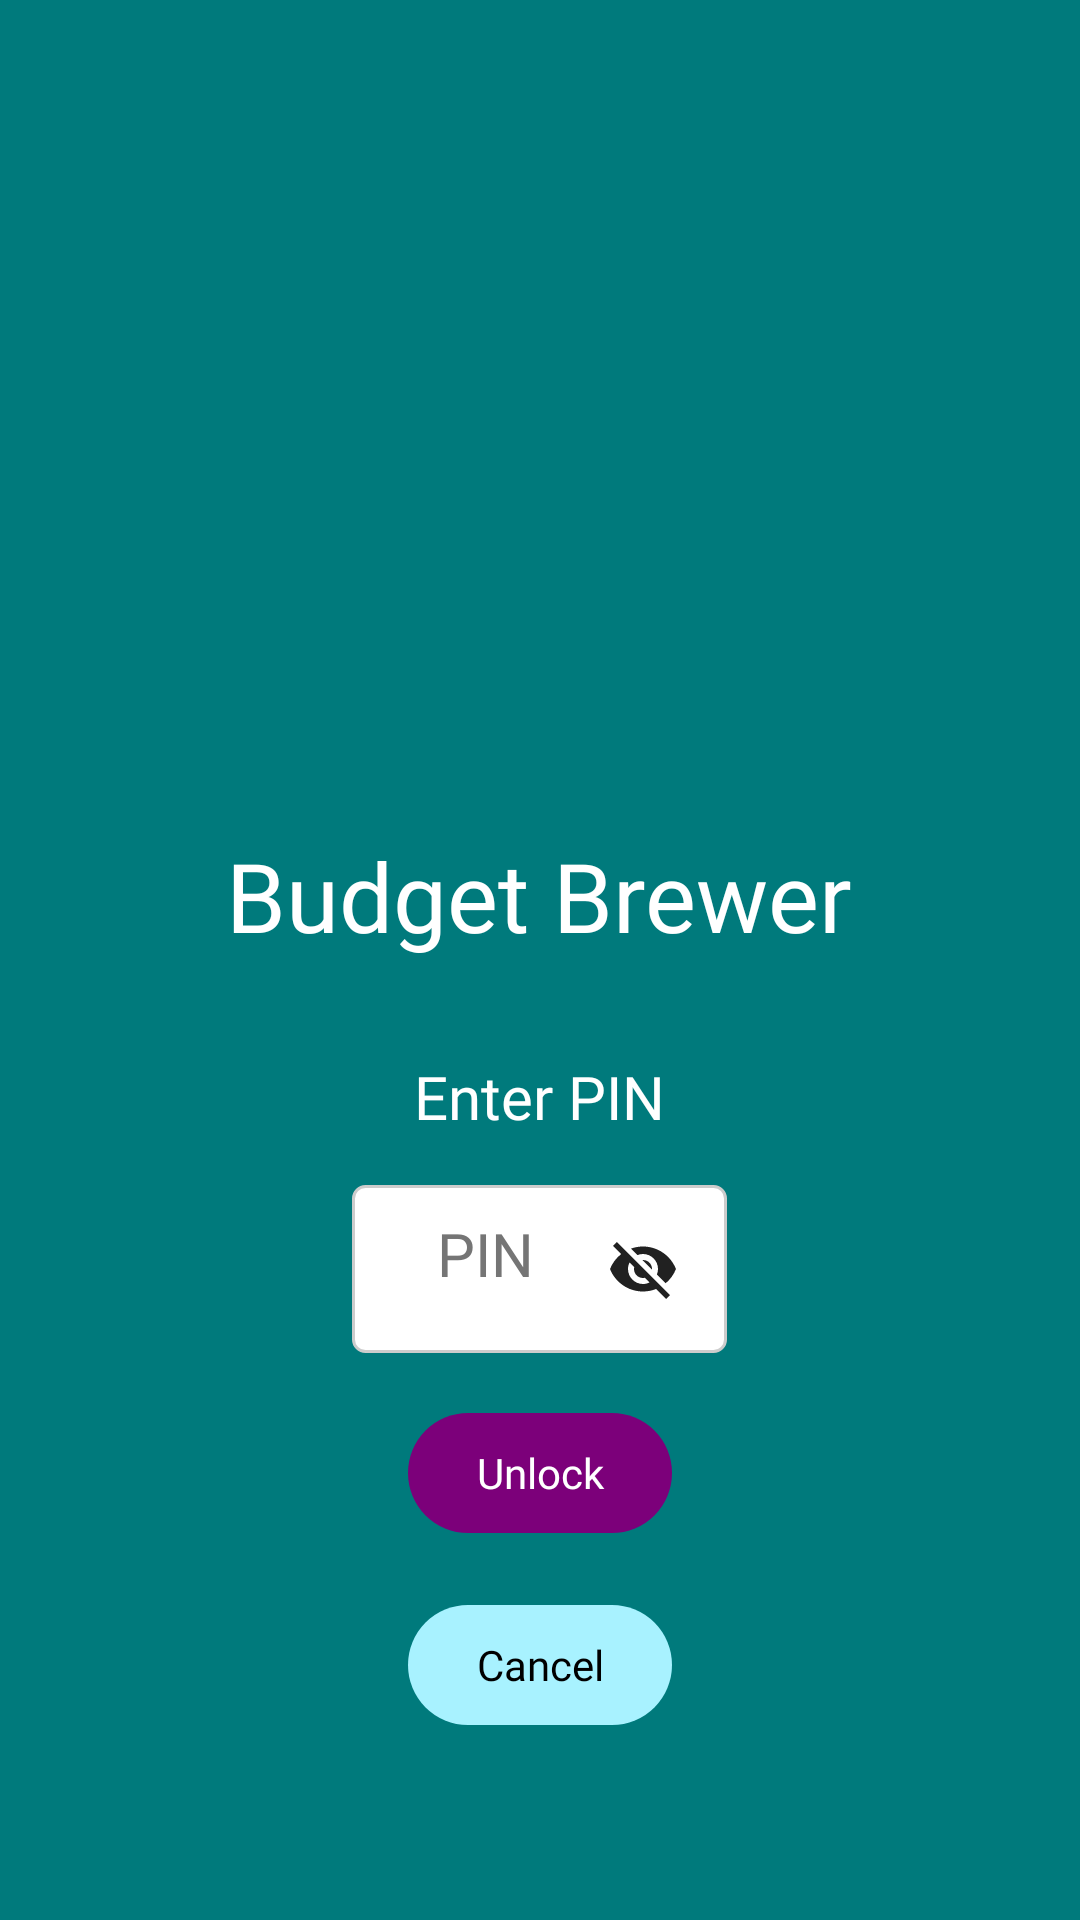

Where icons sit on this 1080 x 1920 app screen, as (x1, y1, x2, y2):
Toggle password visibility: (610, 1242, 676, 1299)
